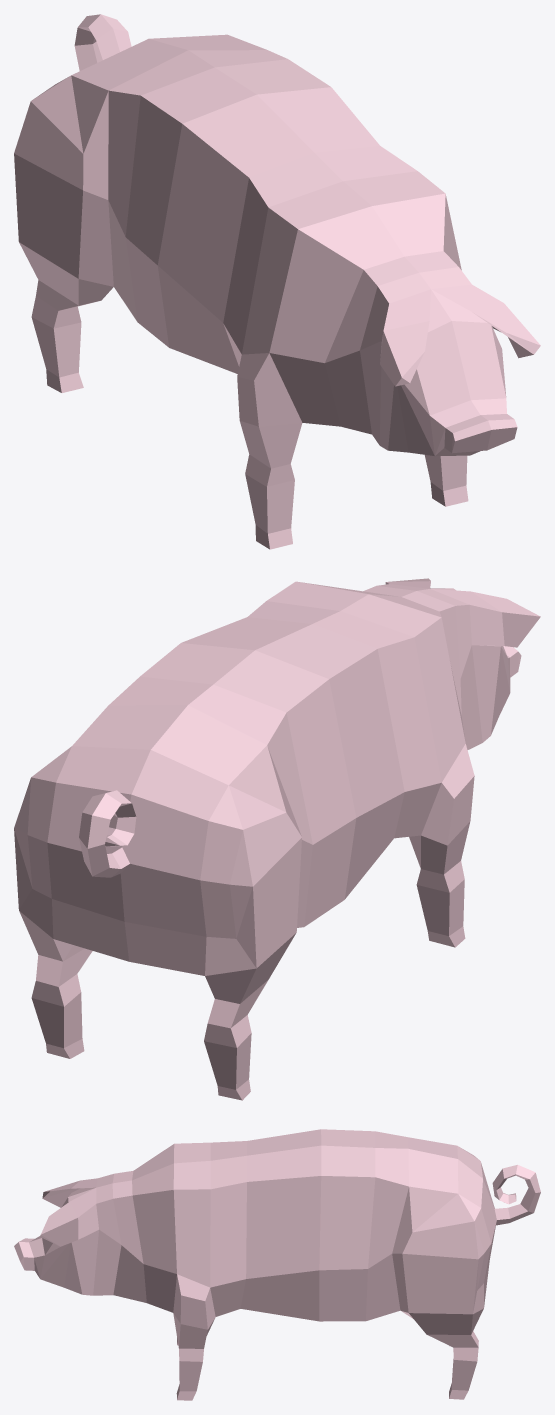
The model's file is quaternius_Pig.glb.
3 views of the same model, one above another, from view 1: azimuth 30°, elevation 25°; view 2: azimuth 150°, elevation 25°; view 3: azimuth 270°, elevation 25° (orthographic). The views are drawn at different scales.
Bounding box in the file's own units: 0.1652 × 0.2288 × 0.4885.
